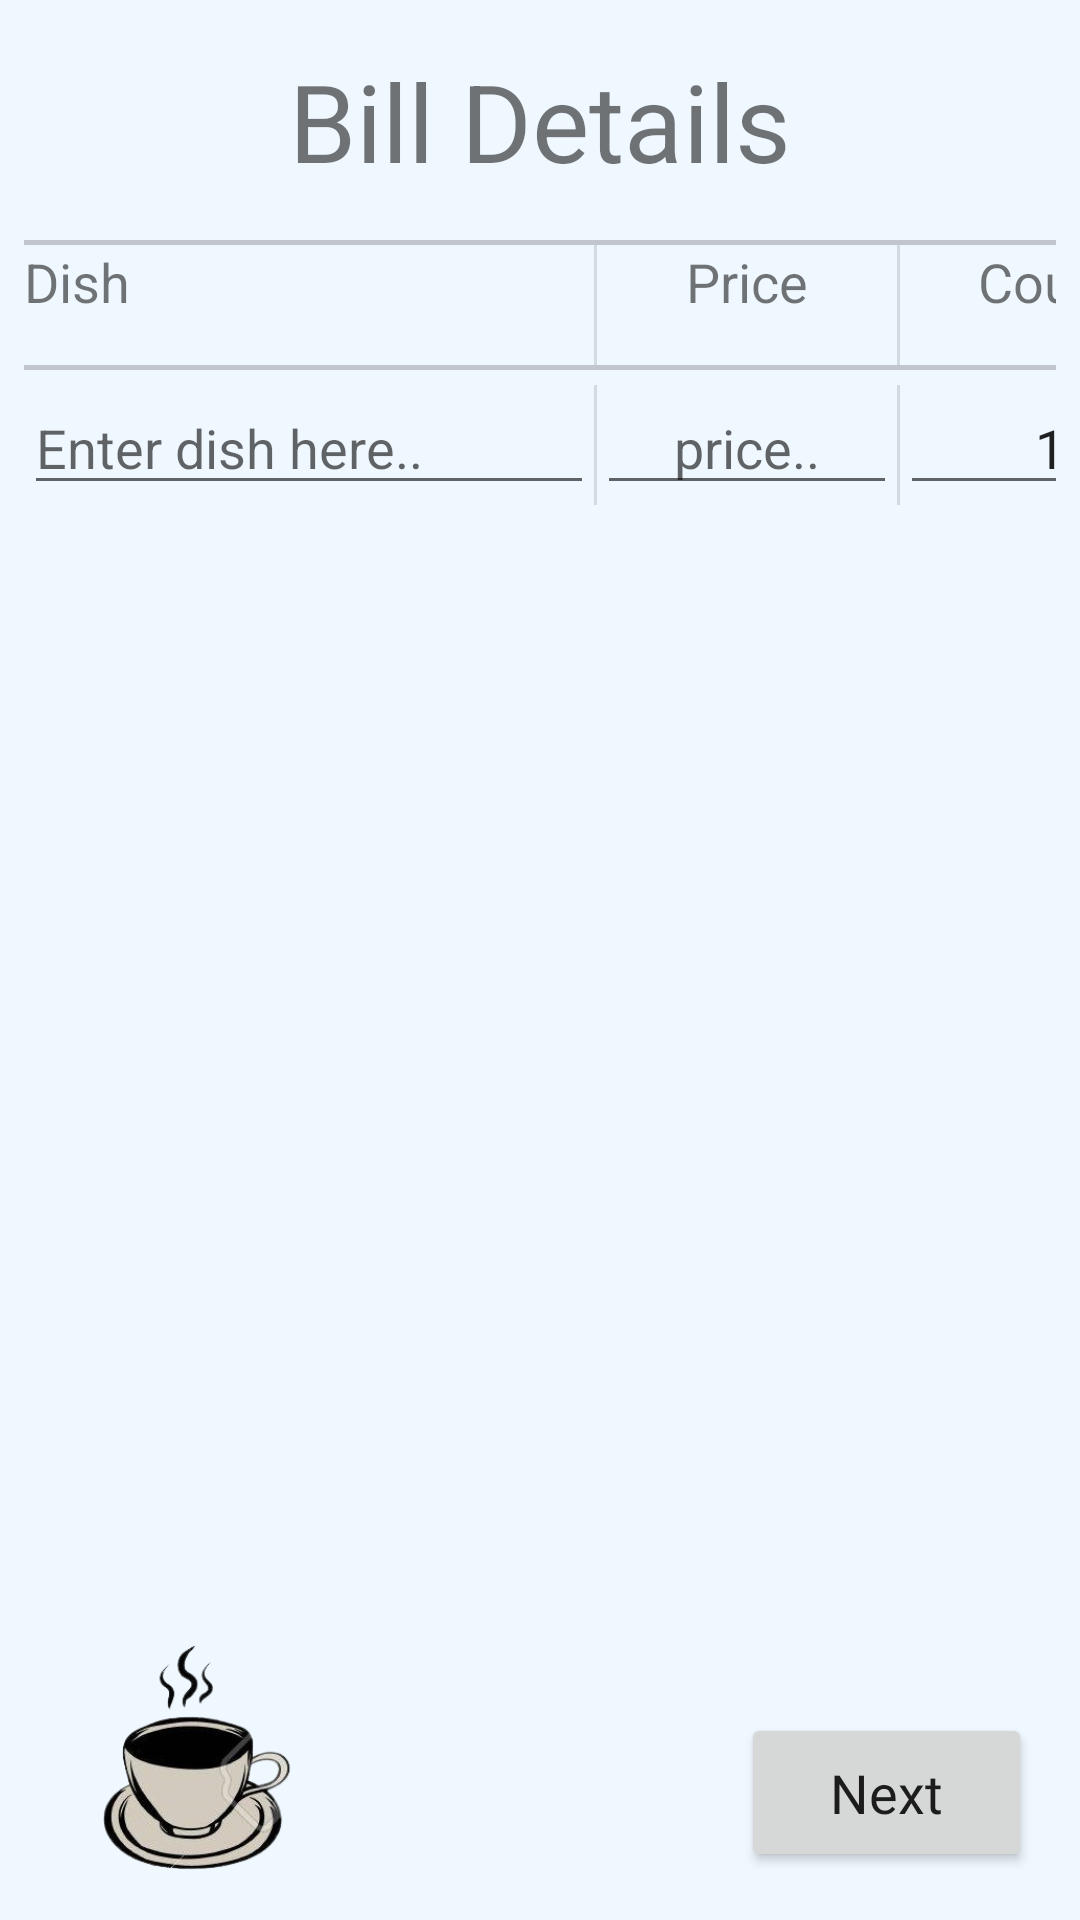

Locate icon controls on the screen. Image size 1080×1920, boxes as (x1,y1,x2,y2).
coffe: (103,1646,290,1869)
